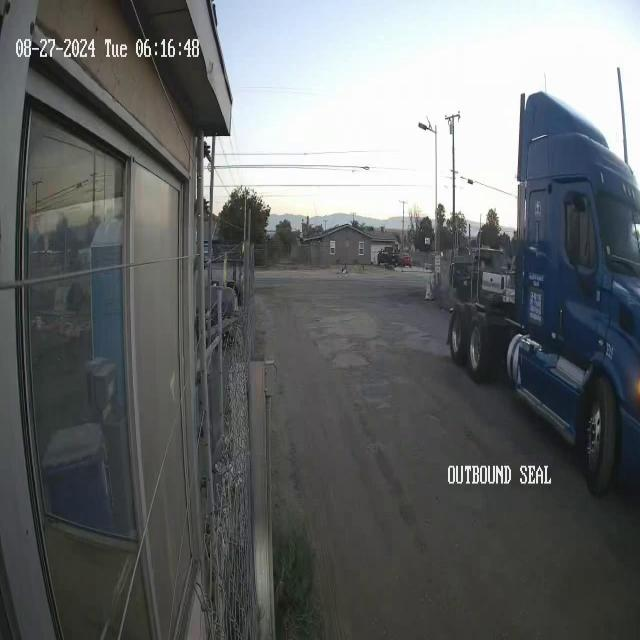TRUCK_IN: (446, 87, 640, 496)
